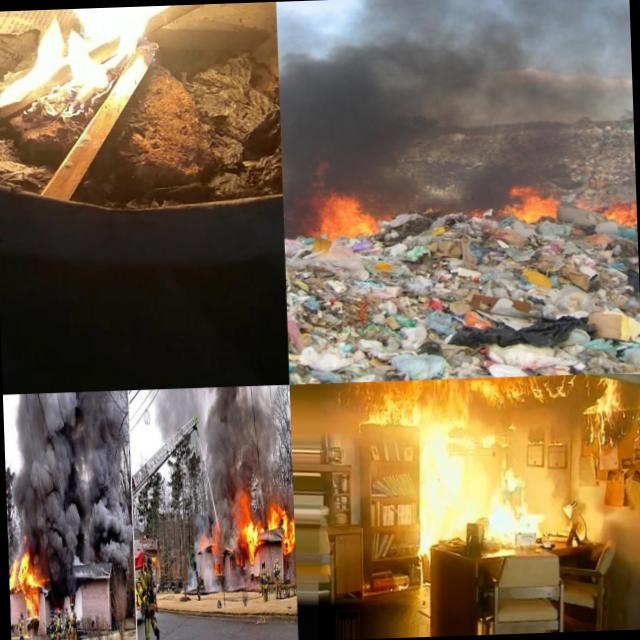fire: (23, 2, 279, 112), (338, 374, 572, 420), (481, 453, 548, 545), (310, 186, 380, 248), (584, 375, 630, 463), (498, 177, 560, 230), (8, 558, 39, 618), (591, 200, 637, 240), (265, 500, 295, 560), (240, 492, 260, 565), (199, 532, 214, 552), (637, 380, 640, 435)
smoke: (276, 0, 635, 184), (41, 390, 106, 558), (208, 386, 242, 550), (378, 180, 498, 223), (237, 386, 279, 483), (152, 387, 210, 431), (282, 186, 312, 246), (38, 558, 75, 598), (225, 565, 260, 590), (102, 556, 128, 584), (184, 546, 200, 588), (199, 552, 215, 590)
